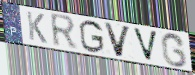G: (160, 32, 189, 69), (78, 19, 106, 54)
K: (25, 10, 48, 45)
R: (49, 12, 79, 52)
V: (102, 21, 133, 59), (131, 26, 159, 64)
